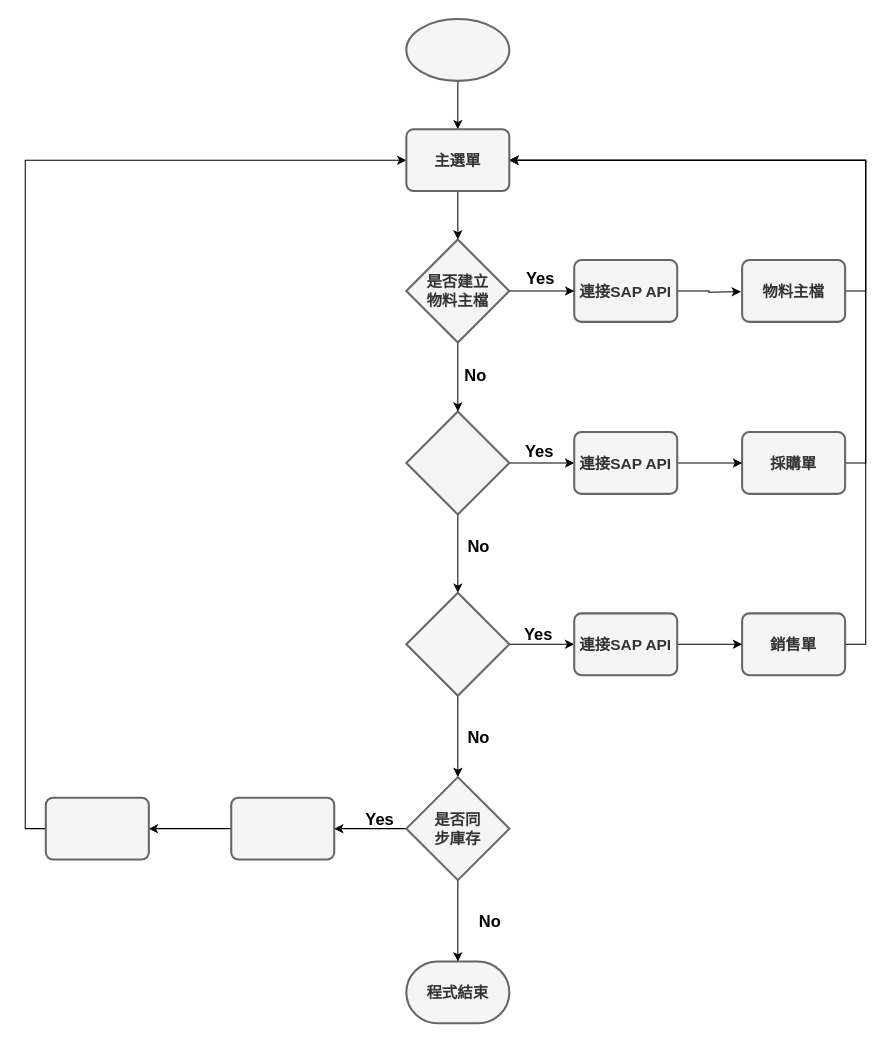
Some shapes in this 892 by 1041 pixel diagram are drawn without their labels. Each missing label, with the centre of its shape:
"庫存" goes at (96,828).
"是否建立 採購單" goes at (457,462).
"是否建立 銷售單" goes at (457,643).
"程式執行" goes at (457,49).
"連接通途API" goes at (282,828).
